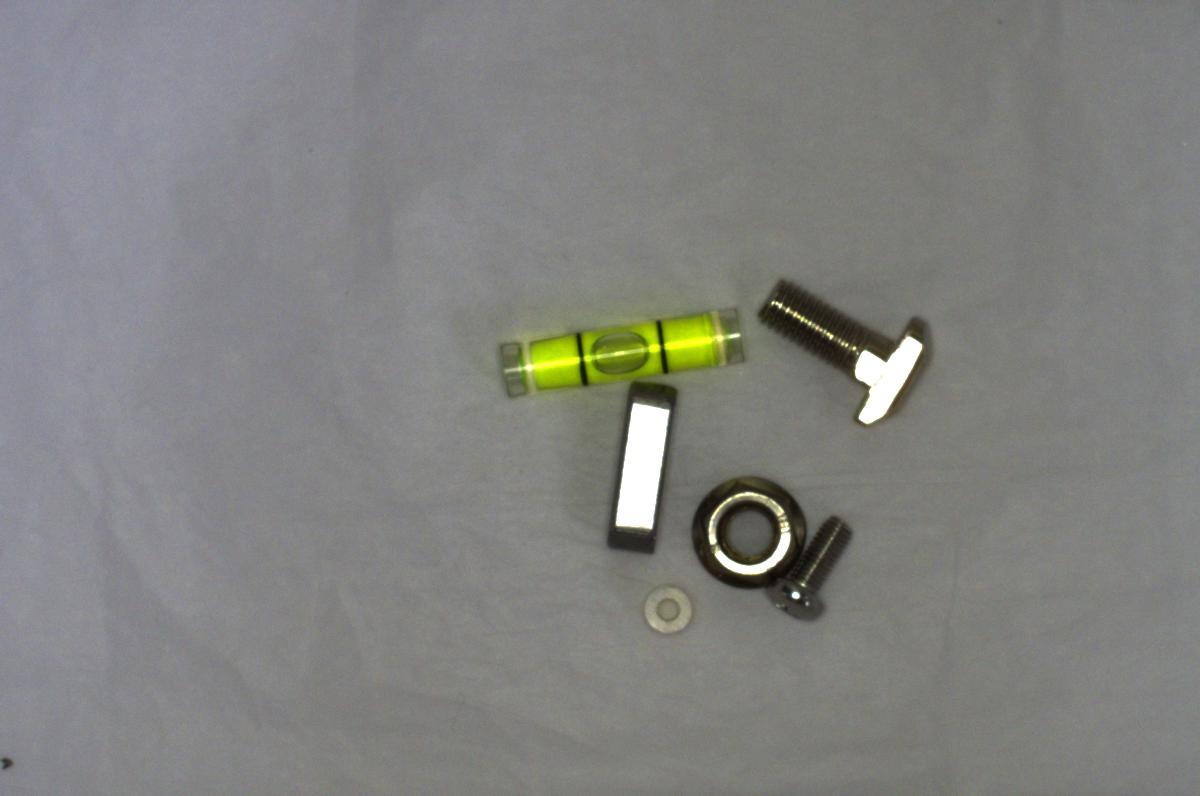Flange nut: (681, 469, 808, 594)
Horizontal bubble: (487, 290, 752, 399)
Keybar: (605, 378, 675, 553)
Plastic cushion pillar: (630, 580, 697, 639)
Round head screw: (762, 515, 855, 616)
T-shaped screw: (752, 272, 935, 436)
